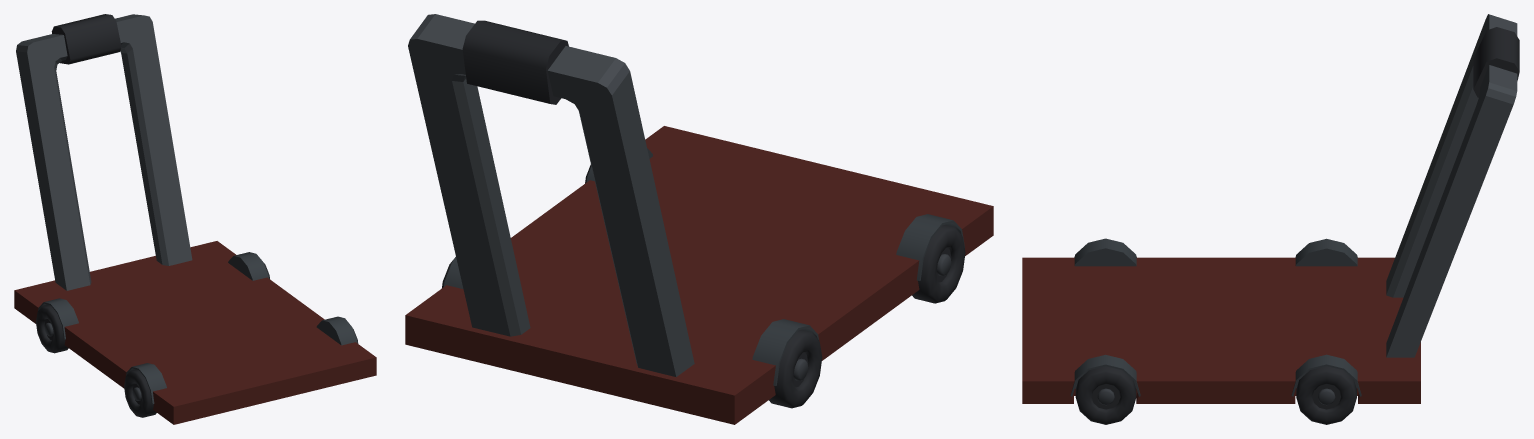
The model's file is HandTruck_1.fbx.
3 views of the same model, side by side, from view 1: azimuth 30°, elevation 25°; view 2: azimuth 150°, elevation 25°; view 3: azimuth 270°, elevation 25° (orthographic). The views are drawn at different scales.
Visible parts, largest first — view 1: HandTruck_1; view 2: HandTruck_1; view 3: HandTruck_1.
Boxes of the visible parts, x1,y1,x2,y2 form: HandTruck_1: [14, 14, 376, 424]; HandTruck_1: [405, 14, 993, 424]; HandTruck_1: [1022, 14, 1519, 424].
Size of the model in its own units: 117 by 133 by 188.
